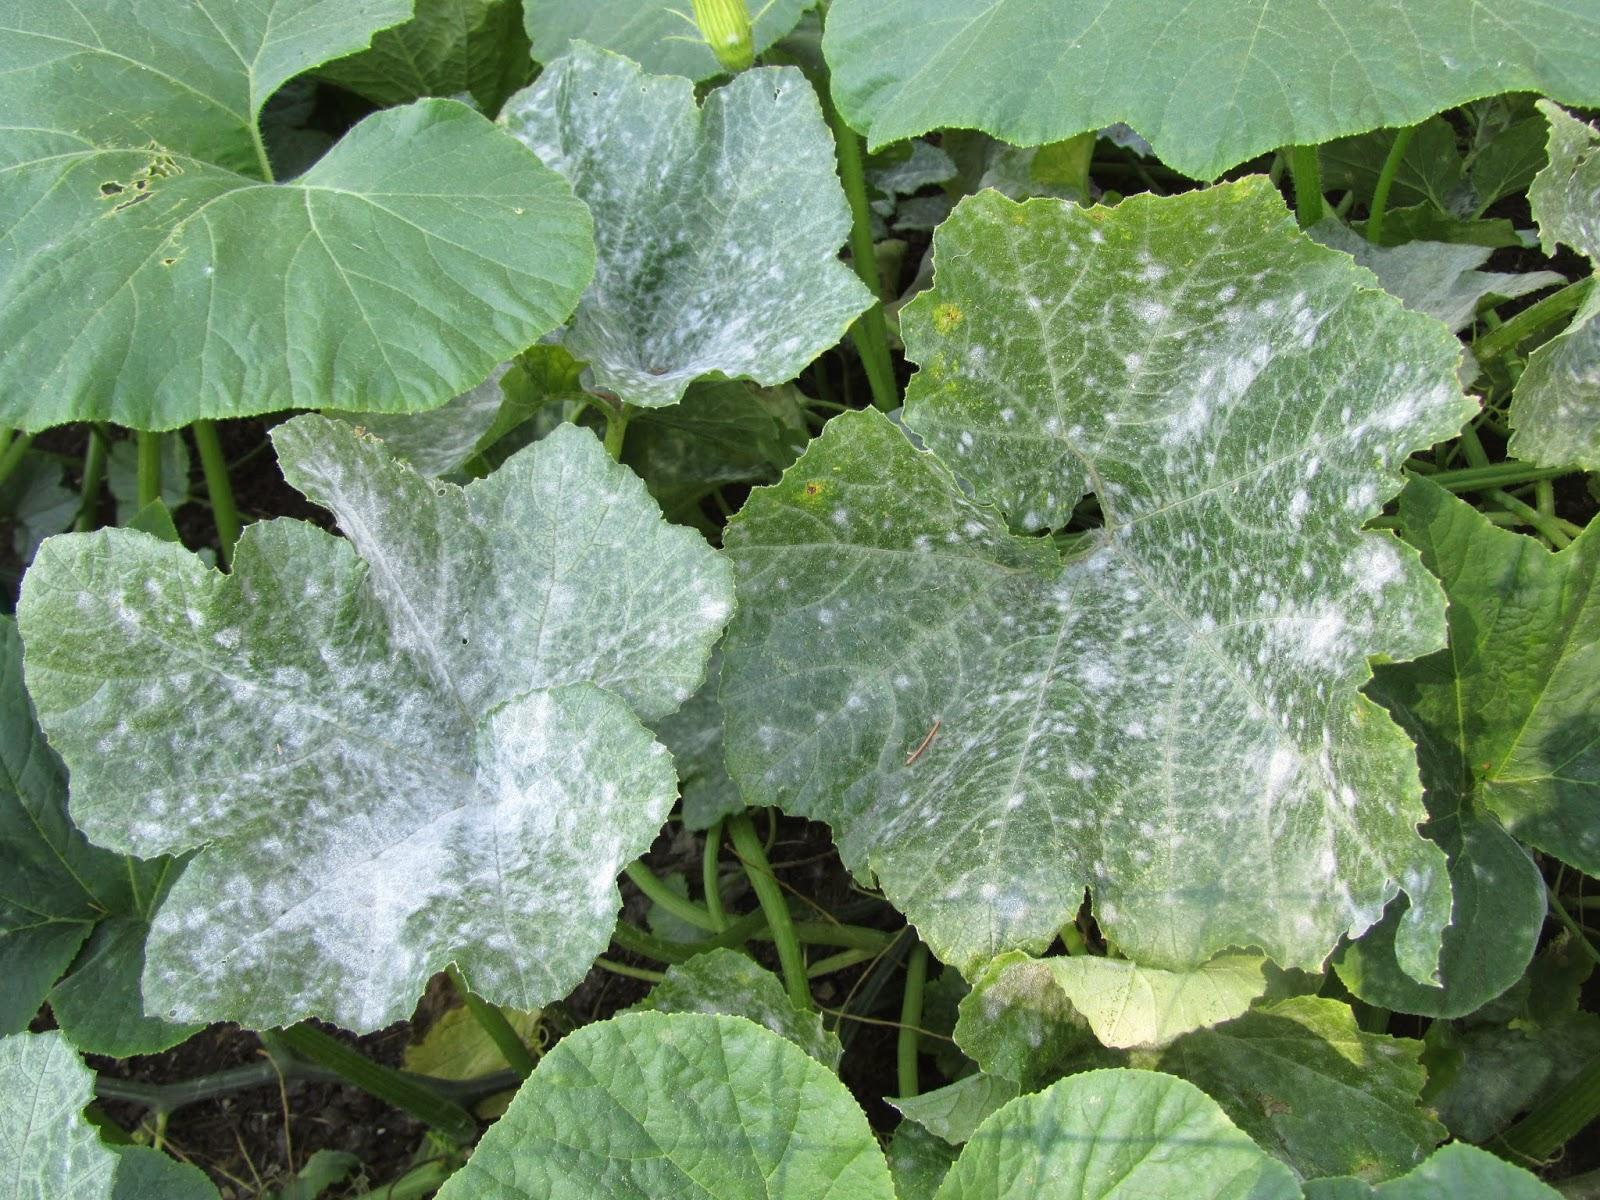Squash Powdery mildew leaf: (653, 160, 1498, 997), (3, 397, 758, 1053), (508, 37, 891, 413)
